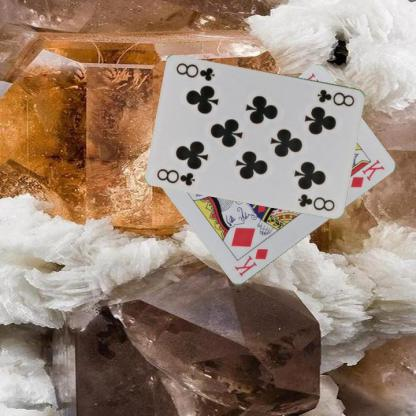8c: (314, 87, 356, 108), (154, 166, 198, 186)
Kd: (231, 246, 269, 279)
